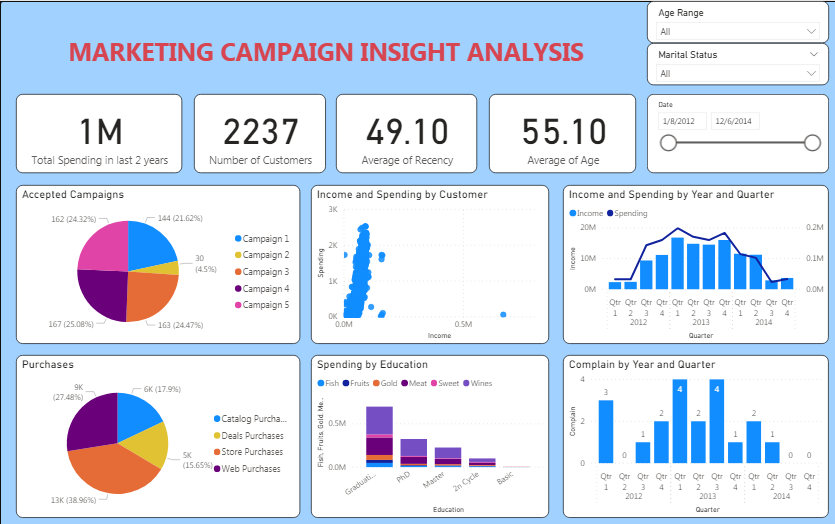

What the dashboard file says about the page in this screenshot:
{"tool":"powerbi","page":{"name":"Page 1","canvas":[1280,800],"ordinal":0},"visuals":[{"type":"card","fields":{"Values":["Sum(marketing_campaign.Spending)"]},"box":[24.3,141,251.8,119.8],"z":0},{"type":"card","fields":{"Values":["Count(marketing_campaign.ID)"]},"box":[294.2,141,200.2,119.8],"z":1000},{"type":"textbox","box":[24.3,45.5,940.3,63.7],"z":2000},{"type":"card","fields":{"Values":["Avg(marketing_campaign.Recency)"]},"box":[509.6,141,213.8,119.8],"z":3000},{"type":"pieChart","title":"Accepted Campaigns","fields":{"Y":["Sum(marketing_campaign.AcceptedCmp1)","Sum(marketing_campaign.AcceptedCmp2)","Sum(marketing_campaign.AcceptedCmp3)","Sum(marketing_campaign.AcceptedCmp4)","Sum(marketing_campaign.AcceptedCmp5)"]},"box":[24.3,279.1,430.7,241.1],"z":4000},{"type":"scatterChart","title":"Income and Spending by Customer","fields":{"X":["Sum(marketing_campaign.Income)"],"Y":["Sum(marketing_campaign.Spending)"],"Category":["marketing_campaign.ID"]},"box":[471.7,279.1,360.9,241.1],"z":5000},{"type":"pieChart","title":"Purchases","fields":{"Y":["Sum(marketing_campaign.NumCatalogPurchases)","Sum(marketing_campaign.NumDealsPurchases)","Sum(marketing_campaign.NumStorePurchases)","Sum(marketing_campaign.NumWebPurchases)"]},"box":[24.3,536.9,430.7,247.2],"z":6000},{"type":"columnChart","title":"Spending by Education","fields":{"Category":["marketing_campaign.Education"],"Y":["Sum(marketing_campaign.MntFishProducts)","Sum(marketing_campaign.MntFruits)","Sum(marketing_campaign.MntGoldProds)","Sum(marketing_campaign.MntMeatProducts)","Sum(marketing_campaign.MntSweetProducts)","Sum(marketing_campaign.MntWines)"]},"box":[471.7,536.9,360.9,247.2],"z":7000},{"type":"lineStackedColumnComboChart","fields":{"Category":["Calendar.Date.Variation.Date Hierarchy.Year","Calendar.Date.Variation.Date Hierarchy.Quarter"],"Y":["Sum(marketing_campaign.Income)"],"Y2":["Sum(marketing_campaign.Spending)"]},"box":[853.8,279.1,403.4,241.1],"z":8000},{"type":"columnChart","fields":{"Y":["Sum(marketing_campaign.Complain)"],"Category":["Calendar.Date.Variation.Date Hierarchy.Year","Calendar.Date.Variation.Date Hierarchy.Quarter"]},"box":[853.8,536.9,403.4,247.2],"z":9000},{"type":"card","fields":{"Values":["Avg(marketing_campaign.Age)"]},"box":[741.6,141,222.9,119.8],"z":10000},{"type":"slicer","fields":{"Values":["Calendar.Date"]},"box":[981.2,141,276,119.8],"z":11000},{"type":"slicer","fields":{"Values":["marketing_campaign.AgeRange"]},"box":[981.2,0,276,63.7],"z":12000},{"type":"slicer","fields":{"Values":["marketing_campaign.Marital_Status"]},"box":[981.2,63.7,276,63.7],"z":13000}]}

Visuals, with their boxes in screenshot pixels (x1, y1, x2, y2), scaled from the page's 1280x800 canvas onto the 835x524 screenshot:
card - Sum(marketing_campaign.Spending): crop(16, 92, 180, 171)
card - Count(marketing_campaign.ID): crop(192, 92, 323, 171)
textbox: crop(16, 30, 629, 72)
card - Avg(marketing_campaign.Recency): crop(332, 92, 472, 171)
"Accepted Campaigns" pieChart: crop(16, 183, 297, 341)
"Income and Spending by Customer" scatterChart: crop(308, 183, 543, 341)
"Purchases" pieChart: crop(16, 352, 297, 514)
"Spending by Education" columnChart: crop(308, 352, 543, 514)
lineStackedColumnComboChart - Calendar.Date.Variation.Date Hierarchy.Year x Calendar.Date.Variation.Date Hierarchy.Quarter: crop(557, 183, 820, 341)
columnChart - Sum(marketing_campaign.Complain) x Calendar.Date.Variation.Date Hierarchy.Year: crop(557, 352, 820, 514)
card - Avg(marketing_campaign.Age): crop(484, 92, 629, 171)
slicer - Calendar.Date: crop(640, 92, 820, 171)
slicer - marketing_campaign.AgeRange: crop(640, 0, 820, 42)
slicer - marketing_campaign.Marital_Status: crop(640, 42, 820, 83)
